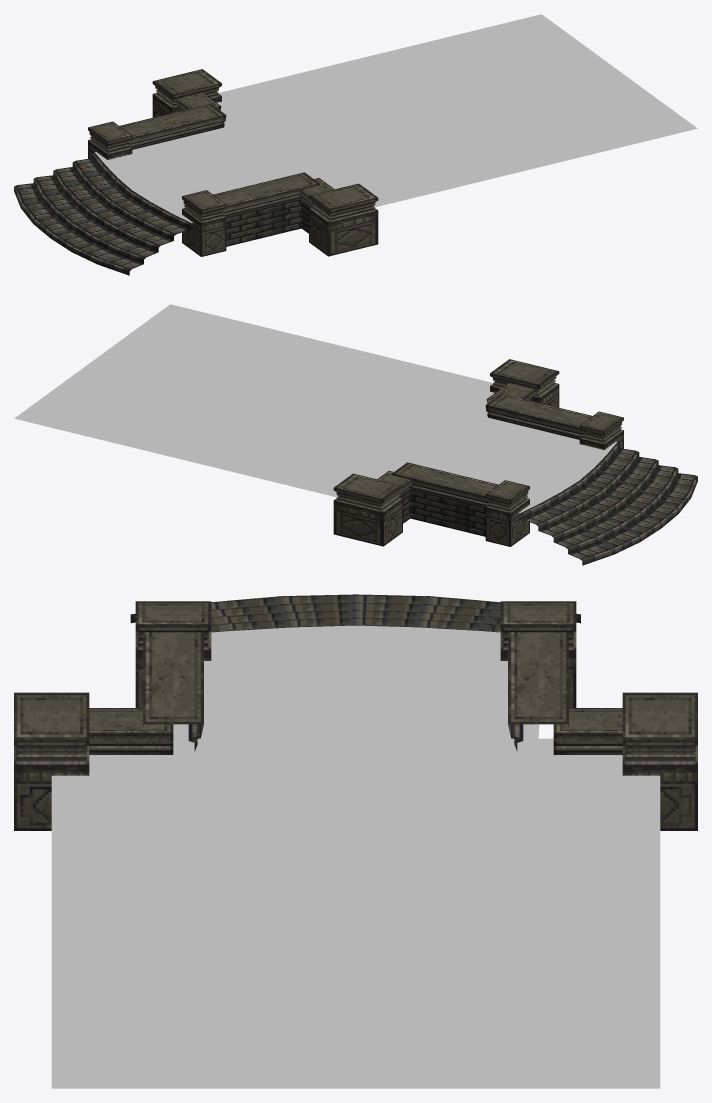
File: EnvBdgMD_Mansion_B_Outdoor_Base.FBX
3 views of the same model, one above another, from view 1: azimuth 30°, elevation 25°; view 2: azimuth 150°, elevation 25°; view 3: azimuth 270°, elevation 25° (orthographic). The views are drawn at different scales.
Parts seen in each view (by area): view 1: EnvBdgMD_Mansion_B_Outdoor_Base; view 2: EnvBdgMD_Mansion_B_Outdoor_Base; view 3: EnvBdgMD_Mansion_B_Outdoor_Base.
Part boxes in pixels (box(x1,y1,x2,y2)): EnvBdgMD_Mansion_B_Outdoor_Base: box(14, 14, 697, 275); EnvBdgMD_Mansion_B_Outdoor_Base: box(14, 304, 697, 565); EnvBdgMD_Mansion_B_Outdoor_Base: box(14, 594, 697, 1088).
Size of the model in its own units: 2102 by 165 by 1124.
